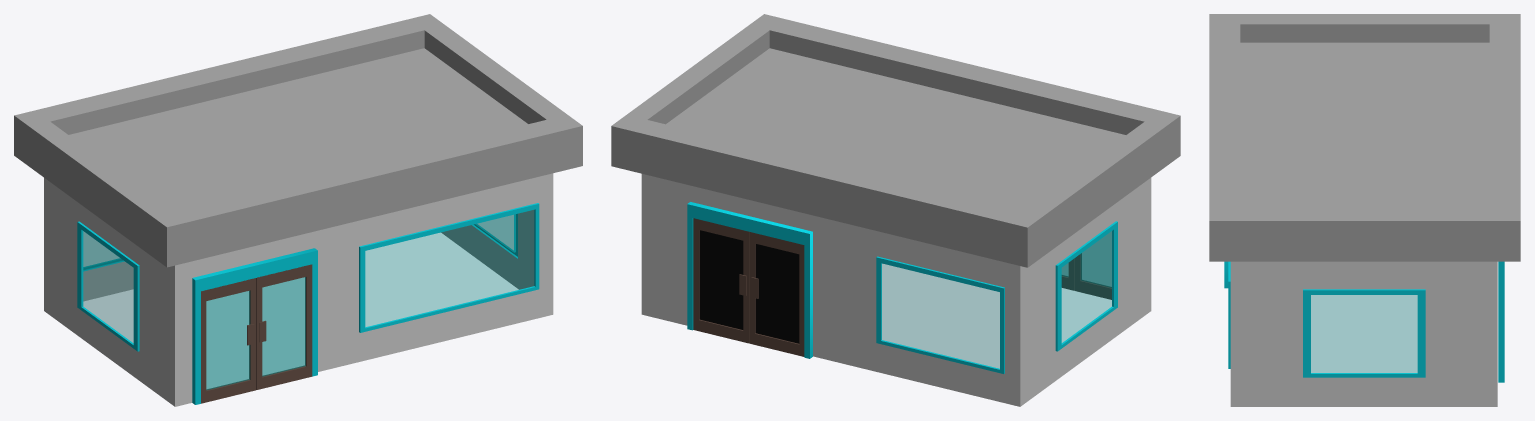
The model's file is Building_Generic_Mod_03.fbx.
3 views of the same model, side by side, from view 1: azimuth 30°, elevation 25°; view 2: azimuth 150°, elevation 25°; view 3: azimuth 270°, elevation 25° (orthographic).
Parts seen in each view (by area): view 1: Building5, Door3, Door2; view 2: Building5, Door2; view 3: Building5.
Boxes of the visible parts, x1,y1,x2,y2 form: Building5: (14,14,582,406); Door3: (256,264,312,389); Door2: (201,278,256,403); Building5: (611,14,1180,406); Door2: (1074,231,1111,299); Building5: (1209,14,1520,406).
Bounding box in the file's own units: 5.5 × 2.43 × 3.5.
